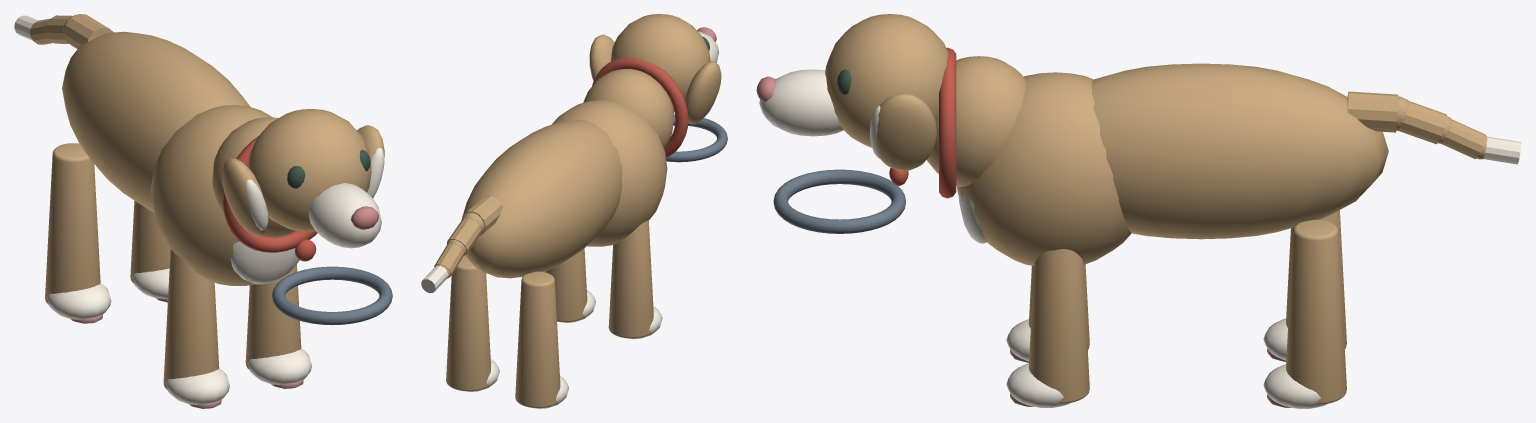
Rendered from pet_dog.glb.
The picture shows the model from 3 angles, left to right: view 1: azimuth 30°, elevation 25°; view 2: azimuth 150°, elevation 25°; view 3: azimuth 270°, elevation 25°; orthographic projection. The views are drawn at different scales.
Parts seen in each view (by area): view 1: Body, Head, Leg_BL, Leg_FL, Leg_FR, Leash, Leg_BR, Ear_L, Tail, Chest mark, Collar, Ear_R (+1 smaller); view 2: Body, Leg_BL, Leg_BR, Head, Leg_FL, Tail, Leg_FR, Collar, Ear_L, Leash, Ear_R; view 3: Body, Head, Leg_BR, Leg_FR, Tail, Ear_R, Leash, Collar, Leg_BL, Leg_FL, Chest mark.
Part boxes in pixels (left/top/right/bottom): Body: left=62, top=31, right=295, bottom=285; Head: left=248, top=109, right=381, bottom=248; Leg_BL: left=45, top=143, right=111, bottom=323; Leg_FL: left=163, top=249, right=229, bottom=408; Leg_FR: left=245, top=264, right=312, bottom=388; Leash: left=272, top=266, right=392, bottom=325; Leg_BR: left=130, top=200, right=170, bottom=302; Ear_L: left=222, top=158, right=268, bottom=235; Tail: left=14, top=14, right=113, bottom=48; Chest mark: left=230, top=241, right=299, bottom=284; Collar: left=222, top=135, right=317, bottom=252; Ear_R: left=357, top=125, right=384, bottom=198; Body: left=463, top=69, right=674, bottom=278; Leg_BL: left=515, top=271, right=568, bottom=408; Leg_BR: left=446, top=255, right=499, bottom=391; Head: left=610, top=14, right=718, bottom=111; Leg_FL: left=608, top=220, right=662, bottom=339; Tail: left=421, top=195, right=502, bottom=293; Leg_FR: left=544, top=248, right=595, bottom=322; Collar: left=592, top=57, right=688, bottom=157; Ear_L: left=685, top=61, right=721, bottom=124; Leash: left=666, top=115, right=727, bottom=162; Ear_R: left=589, top=34, right=614, bottom=81; Body: left=927, top=56, right=1388, bottom=265; Head: left=756, top=14, right=948, bottom=147; Leg_BR: left=1263, top=219, right=1346, bottom=408; Leg_FR: left=1006, top=249, right=1089, bottom=407; Tail: left=1347, top=91, right=1521, bottom=164; Ear_R: left=869, top=93, right=936, bottom=170; Leash: left=773, top=169, right=905, bottom=233; Collar: left=939, top=47, right=956, bottom=198; Leg_BL: left=1263, top=210, right=1346, bottom=362; Leg_FL: left=1006, top=264, right=1089, bottom=362; Chest mark: left=958, top=192, right=987, bottom=243.
Bounding box in the file's own units: 0.2772 × 0.573 × 1.1.
